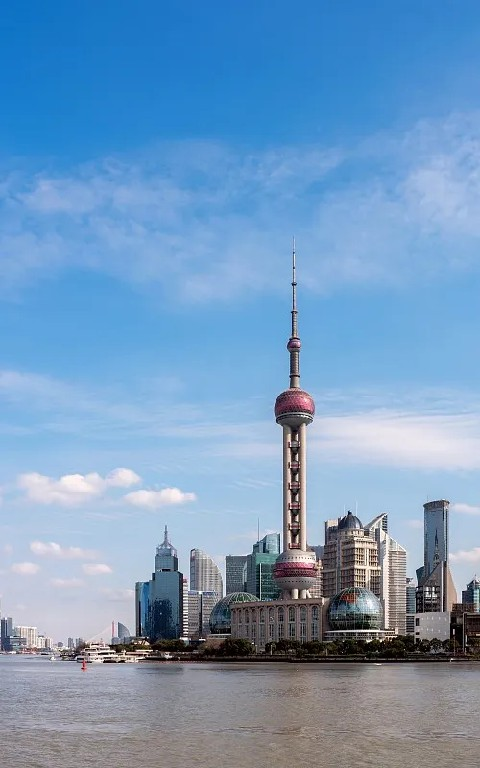Oriental: (273, 237, 316, 599)
